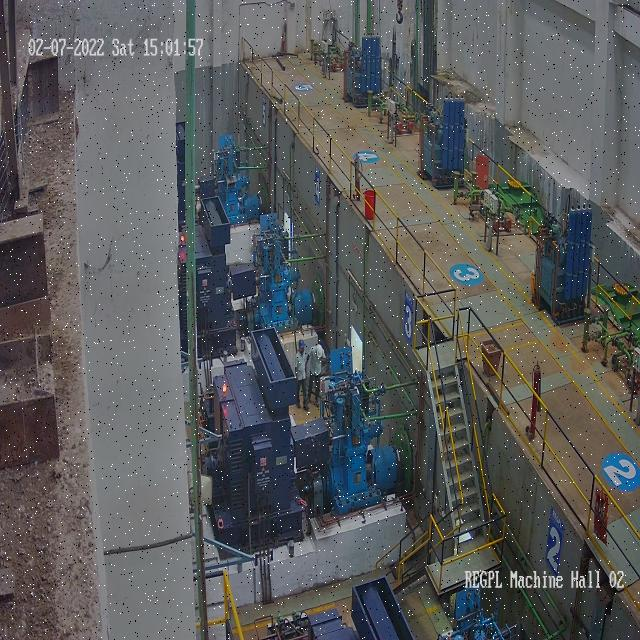Boots: (313, 397, 321, 410), (304, 400, 310, 414), (295, 400, 303, 409), (306, 396, 310, 403)
Helmet: (317, 345, 323, 358), (298, 339, 306, 348)
